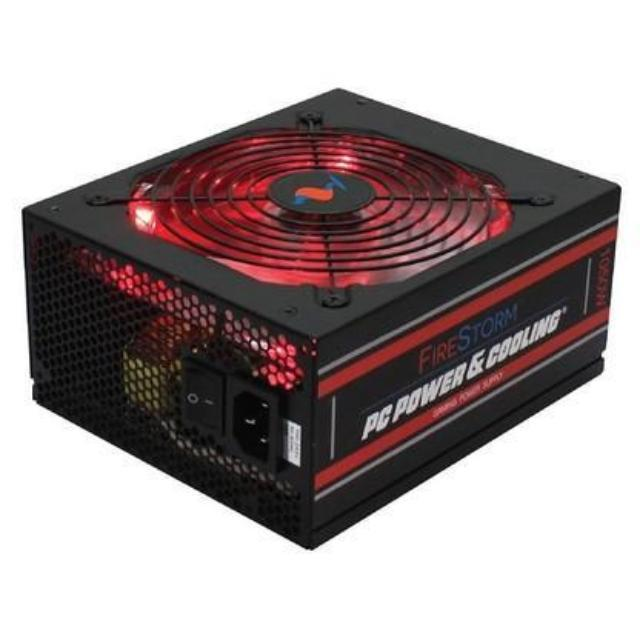PSU: (8, 73, 640, 559)
